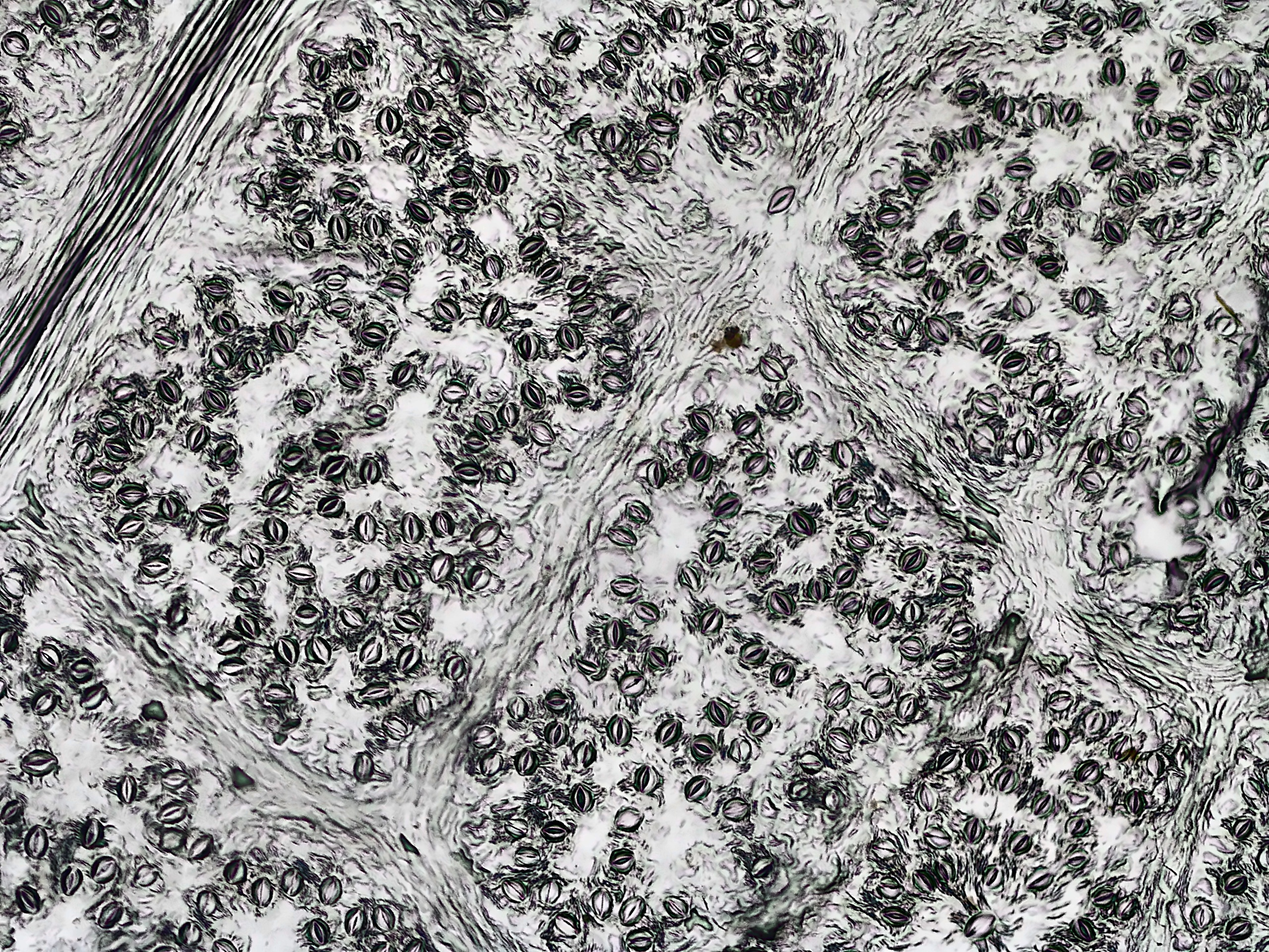stomata: (725, 405, 776, 439), (284, 596, 329, 628), (764, 184, 802, 220), (1024, 94, 1058, 134), (479, 290, 509, 334), (73, 813, 106, 853), (742, 544, 786, 573), (866, 833, 908, 863), (697, 531, 728, 571), (883, 306, 920, 339), (315, 449, 355, 479), (684, 447, 716, 484), (766, 660, 804, 691), (18, 750, 61, 777), (262, 471, 291, 511), (1096, 215, 1132, 247), (332, 365, 373, 393), (93, 11, 124, 48), (938, 570, 976, 600), (1162, 151, 1204, 178), (550, 21, 584, 54), (830, 558, 863, 592), (922, 313, 956, 346), (304, 630, 332, 670), (289, 109, 320, 145), (495, 875, 531, 906), (597, 365, 634, 395), (1010, 424, 1040, 461), (1085, 433, 1115, 470), (609, 713, 638, 751), (840, 525, 878, 554), (398, 77, 431, 110), (10, 884, 43, 917), (232, 607, 267, 638), (616, 27, 656, 54), (236, 535, 266, 571), (336, 599, 372, 629), (390, 603, 427, 632), (1073, 467, 1114, 493), (953, 77, 991, 105), (1169, 605, 1213, 629), (374, 897, 403, 933), (973, 420, 1009, 449), (997, 726, 1033, 755), (135, 551, 175, 577), (267, 316, 295, 353), (522, 375, 553, 408), (966, 909, 999, 940), (1160, 432, 1191, 465), (769, 387, 803, 417), (735, 636, 770, 665), (697, 603, 726, 638), (1197, 568, 1232, 597), (702, 19, 738, 47), (610, 805, 646, 833), (357, 321, 394, 348), (1168, 340, 1195, 377), (92, 899, 125, 929), (687, 404, 720, 434), (825, 674, 855, 707), (1196, 395, 1229, 425), (193, 497, 231, 523), (436, 297, 470, 326), (260, 516, 294, 545), (273, 634, 302, 668), (409, 686, 437, 721), (603, 616, 631, 651), (739, 450, 775, 477), (784, 509, 820, 536), (335, 133, 367, 163), (655, 714, 685, 746), (712, 489, 742, 521), (748, 855, 780, 885), (759, 353, 792, 382), (795, 26, 823, 60), (90, 851, 118, 885), (543, 817, 577, 845), (763, 587, 791, 621), (113, 511, 151, 536), (607, 524, 643, 550), (968, 388, 1004, 414), (638, 150, 670, 179), (802, 574, 834, 603), (826, 721, 855, 753), (1122, 387, 1154, 416), (358, 451, 383, 488), (936, 228, 973, 253), (0, 117, 33, 145), (357, 635, 385, 668), (381, 714, 414, 742), (865, 669, 893, 702), (1031, 333, 1064, 361), (545, 682, 579, 709), (914, 779, 941, 813), (1113, 728, 1140, 762), (793, 437, 817, 475), (285, 560, 320, 586), (913, 859, 939, 894), (1106, 538, 1132, 573), (37, 3, 73, 28), (443, 374, 473, 404), (152, 797, 188, 822), (258, 680, 294, 705), (155, 321, 184, 352), (711, 694, 742, 723), (1078, 10, 1107, 41), (1187, 71, 1216, 102), (1114, 892, 1145, 921), (473, 516, 501, 548), (465, 561, 493, 593), (500, 690, 528, 722), (904, 539, 932, 571), (276, 164, 309, 191), (645, 112, 682, 136), (355, 506, 379, 543), (377, 272, 411, 298), (353, 749, 379, 783), (619, 669, 653, 695), (72, 428, 94, 468), (516, 233, 551, 258), (432, 505, 457, 540), (901, 173, 939, 196), (963, 260, 992, 290), (1086, 874, 1115, 904), (405, 197, 436, 225), (528, 416, 556, 447), (562, 378, 593, 406), (687, 772, 715, 803), (956, 122, 984, 153), (1146, 211, 1177, 239), (996, 228, 1024, 259), (202, 274, 234, 301), (131, 412, 163, 439), (354, 679, 395, 700), (334, 87, 367, 113), (430, 551, 456, 584), (899, 593, 925, 626), (946, 620, 983, 643), (250, 875, 275, 909), (923, 821, 957, 846), (1072, 282, 1097, 316), (3, 28, 32, 57), (31, 686, 60, 715), (634, 597, 663, 626), (854, 307, 883, 336), (544, 717, 572, 747), (1202, 430, 1237, 454), (599, 47, 626, 78), (396, 563, 423, 594), (937, 744, 964, 775), (539, 203, 571, 229), (164, 597, 190, 629), (609, 569, 641, 595), (400, 508, 423, 544), (877, 904, 913, 927), (926, 649, 962, 672), (356, 563, 381, 596), (590, 885, 615, 918), (1025, 379, 1058, 404), (189, 827, 213, 861), (555, 912, 589, 936), (347, 43, 376, 71), (598, 125, 627, 153), (305, 915, 333, 944), (397, 643, 425, 672), (517, 747, 545, 776), (1193, 18, 1221, 47), (58, 865, 85, 895), (132, 859, 159, 889), (571, 738, 601, 765), (747, 710, 774, 740), (209, 341, 235, 372), (156, 825, 187, 851), (572, 782, 598, 813), (115, 772, 138, 807), (1167, 297, 1202, 320), (228, 574, 260, 599), (858, 712, 883, 744), (875, 873, 907, 898), (446, 165, 482, 187), (328, 211, 350, 247), (78, 687, 111, 711), (281, 863, 303, 899), (935, 849, 957, 885), (1013, 194, 1041, 222), (1238, 774, 1266, 802), (374, 106, 401, 135), (536, 257, 565, 284), (289, 389, 318, 416), (362, 404, 391, 431), (995, 91, 1018, 125), (455, 458, 485, 484), (34, 642, 60, 672), (627, 925, 657, 951), (873, 597, 899, 627), (575, 652, 606, 677), (793, 748, 824, 773), (982, 862, 1007, 893), (1024, 866, 1055, 891), (464, 725, 499, 747), (392, 356, 416, 388), (514, 846, 546, 870), (215, 658, 255, 677), (388, 238, 421, 261), (1087, 149, 1120, 172), (998, 351, 1031, 374), (699, 54, 727, 81), (646, 456, 667, 492), (1216, 103, 1243, 131), (1237, 466, 1265, 493), (720, 117, 746, 146), (621, 893, 647, 922), (1050, 400, 1079, 426), (204, 387, 234, 412), (538, 877, 563, 907), (895, 689, 920, 719), (566, 297, 600, 319), (344, 902, 366, 936), (1244, 330, 1268, 361), (290, 226, 317, 253), (1114, 179, 1141, 206), (310, 56, 336, 84), (280, 445, 306, 473), (1120, 5, 1146, 33), (974, 191, 1002, 217), (979, 329, 1007, 355), (322, 872, 344, 905), (964, 812, 986, 845), (1071, 763, 1104, 785), (365, 212, 389, 242), (519, 331, 543, 361), (460, 428, 490, 452), (835, 479, 859, 509), (567, 272, 598, 295), (446, 651, 468, 683), (1221, 490, 1243, 522), (1048, 689, 1080, 711), (600, 340, 627, 366), (319, 492, 346, 518), (560, 323, 585, 351), (152, 375, 180, 400), (1165, 49, 1193, 74), (841, 592, 866, 620), (736, 0, 765, 24), (481, 253, 505, 282), (504, 817, 533, 841), (609, 849, 638, 873), (264, 285, 297, 306), (161, 768, 194, 789), (438, 53, 461, 83), (536, 71, 559, 101), (680, 560, 703, 590), (666, 895, 696, 918), (837, 435, 855, 473), (725, 800, 756, 822), (333, 182, 367, 202), (636, 770, 662, 796), (246, 181, 273, 206), (448, 232, 473, 259), (475, 411, 502, 436), (627, 497, 654, 522), (1056, 181, 1081, 208), (744, 45, 776, 66), (29, 822, 50, 854), (218, 441, 241, 470), (645, 643, 668, 672), (823, 786, 846, 815), (899, 637, 928, 660), (114, 485, 149, 504), (456, 90, 486, 112), (86, 467, 116, 489), (730, 734, 752, 764), (1218, 306, 1238, 339), (0, 796, 21, 827), (1217, 65, 1238, 96), (1010, 296, 1035, 322), (610, 297, 634, 324), (692, 732, 716, 759), (925, 275, 949, 302), (1069, 812, 1096, 836), (770, 85, 793, 113), (1006, 158, 1038, 178), (1036, 253, 1065, 275), (225, 855, 246, 885), (989, 767, 1019, 788), (1220, 868, 1245, 893), (478, 753, 502, 779), (1042, 28, 1068, 52), (968, 746, 988, 777), (325, 297, 353, 319), (930, 134, 952, 162), (671, 74, 692, 103), (1121, 428, 1142, 457), (1060, 849, 1092, 868), (483, 2, 513, 22), (663, 6, 687, 31), (182, 424, 206, 449), (156, 493, 176, 523), (494, 460, 519, 484), (1104, 58, 1128, 83), (1138, 114, 1162, 139), (1229, 814, 1254, 838), (114, 380, 137, 406), (1076, 914, 1099, 940), (490, 167, 512, 194), (1010, 828, 1032, 855), (1060, 100, 1081, 128), (313, 430, 342, 450), (198, 887, 218, 916), (215, 637, 251, 653), (788, 774, 810, 800), (431, 127, 459, 147), (97, 411, 125, 431), (107, 441, 135, 461), (839, 221, 867, 241), (405, 143, 428, 167), (178, 918, 202, 941), (287, 202, 316, 221), (1145, 751, 1170, 773), (881, 205, 908, 225), (901, 257, 928, 277), (1089, 705, 1108, 733), (216, 312, 239, 335), (1170, 117, 1194, 139), (450, 195, 481, 212), (501, 399, 519, 428), (69, 656, 95, 676), (1135, 79, 1162, 98), (746, 86, 769, 108), (1245, 558, 1263, 586), (1032, 790, 1053, 814), (244, 348, 264, 373), (1253, 104, 1269, 133), (637, 754, 660, 774), (863, 245, 887, 264), (1125, 784, 1140, 814), (1039, 0, 1071, 14), (1138, 168, 1159, 188), (211, 933, 235, 950), (1051, 725, 1065, 753), (325, 275, 347, 290), (155, 941, 184, 952)
